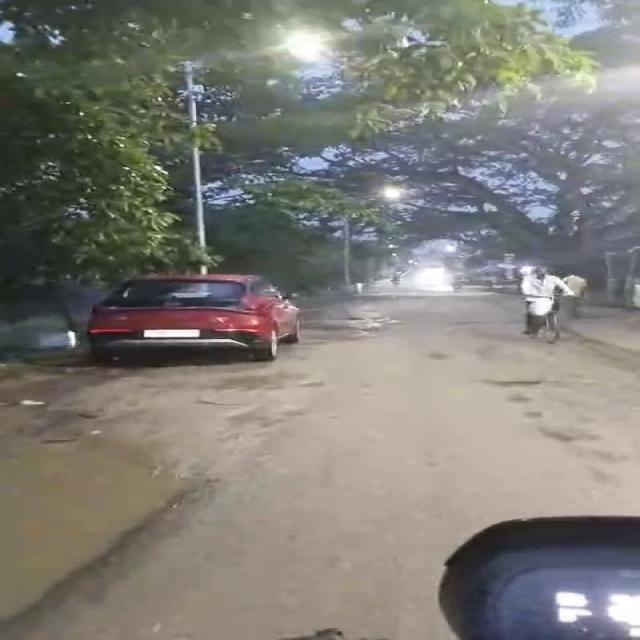pothole: (12, 418, 198, 609), (532, 425, 586, 445), (487, 373, 549, 387), (422, 346, 453, 362), (517, 405, 548, 420), (507, 393, 537, 404)
